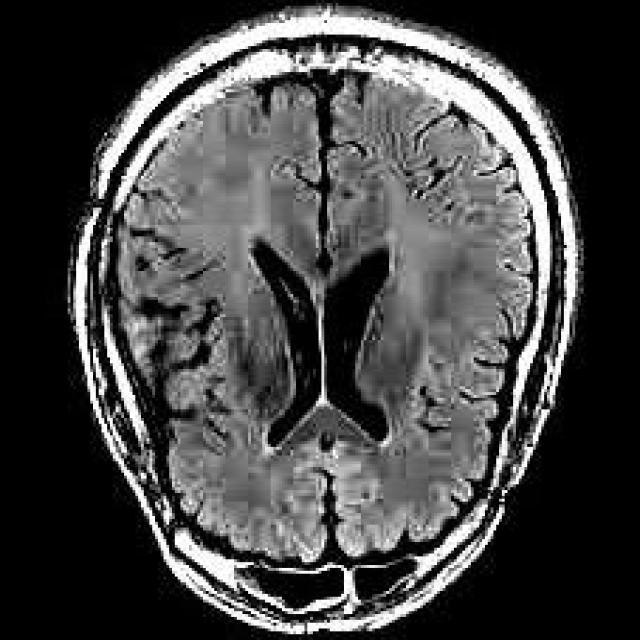notumor: (68, 12, 586, 637)
